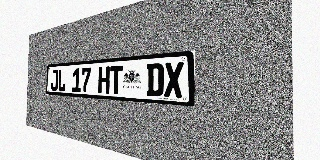1: (72, 68, 81, 92)
7: (81, 67, 91, 93)
D: (146, 63, 164, 97)
H: (98, 66, 110, 94)
J: (51, 70, 58, 91)
L: (58, 69, 66, 91)
T: (110, 65, 123, 94)
X: (164, 62, 184, 98)
